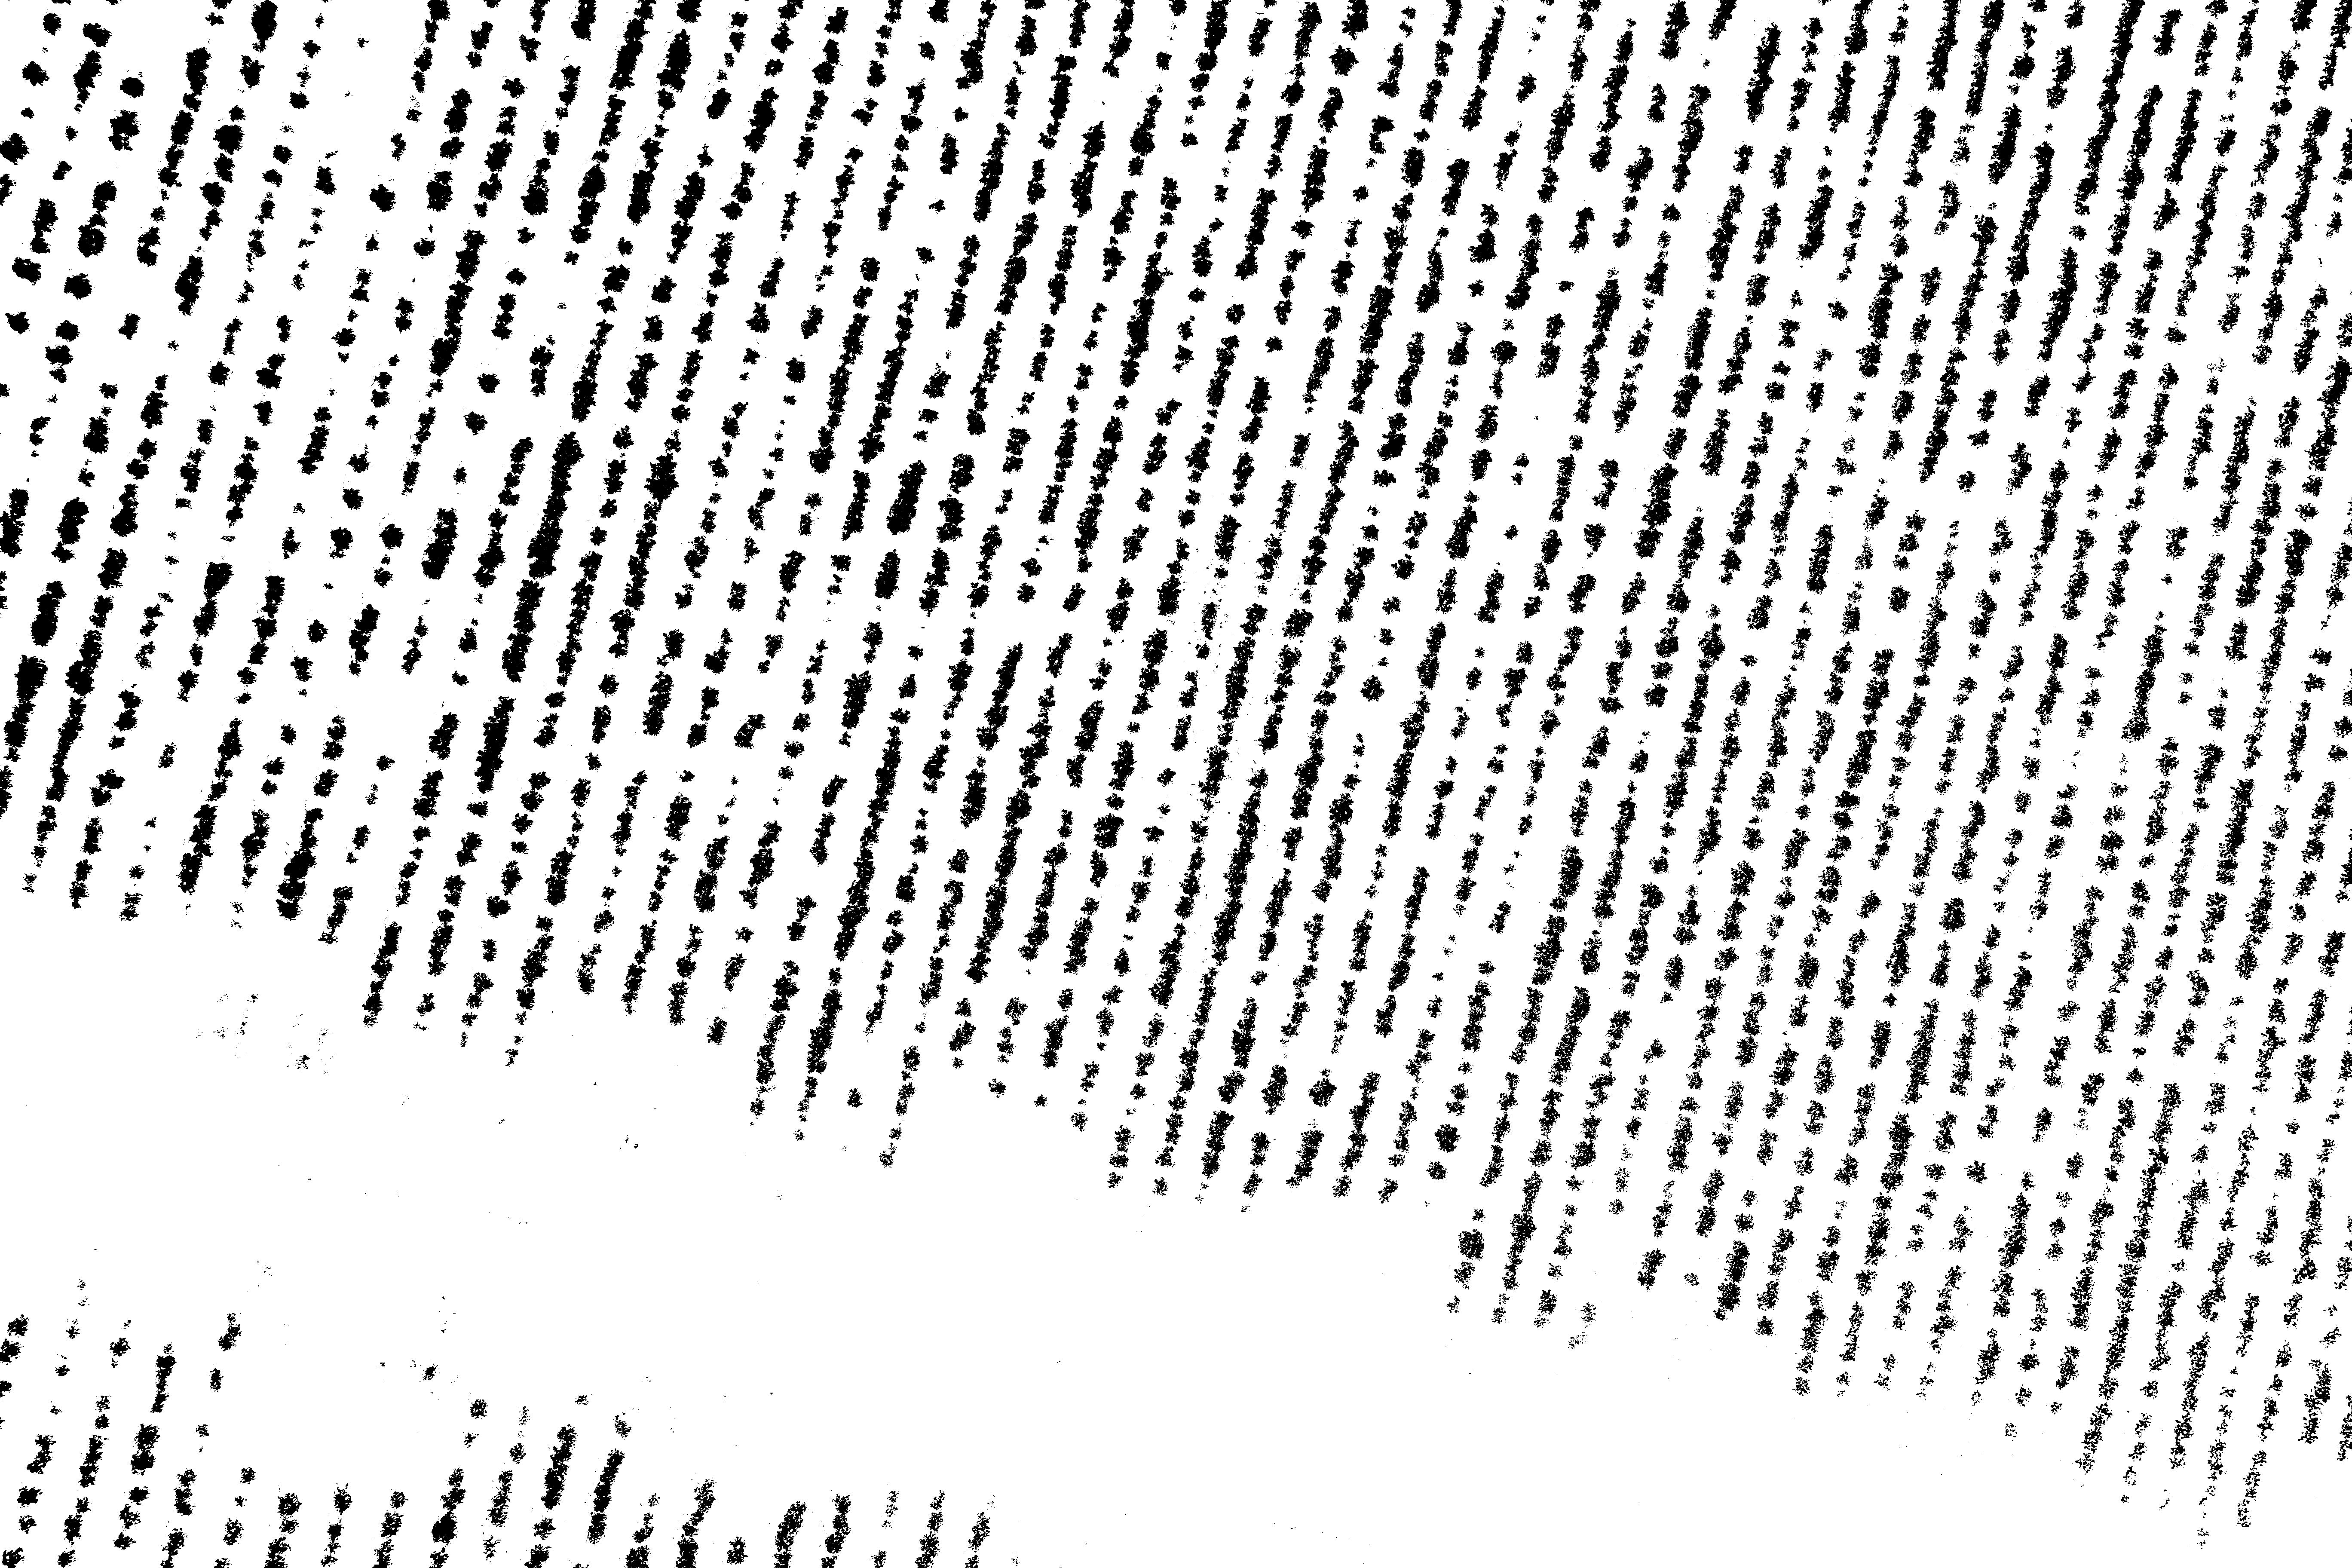Surco: (1788, 0, 2153, 1395), (2001, 4, 2352, 1446), (1831, 4, 2188, 1397), (1969, 0, 2319, 1401), (1878, 0, 2231, 1384), (1562, 4, 1919, 1369), (1917, 4, 2263, 1397), (1749, 0, 2095, 1337), (1489, 0, 1833, 1328), (1706, 2, 2050, 1328), (1442, 19, 1790, 1326), (1530, 2, 1863, 1326), (1633, 2, 1966, 1298), (1227, 0, 1562, 1223), (1087, 2, 1425, 1204), (1277, 0, 1603, 1208), (1320, 15, 1644, 1210), (1195, 4, 1515, 1208), (1148, 2, 1470, 1193), (1375, 0, 1691, 1208), (1425, 0, 1736, 1204), (875, 2, 1188, 1167), (2050, 178, 2342, 1418), (787, 4, 1094, 1145), (739, 0, 1049, 1122), (1025, 0, 1326, 1113), (1070, 13, 1369, 1130), (845, 9, 1139, 1113), (986, 6, 1283, 1098), (2076, 316, 2351, 1476), (458, 4, 752, 1047), (357, 2, 655, 1025), (952, 0, 1238, 1070), (666, 0, 954, 1032), (572, 0, 855, 999), (318, 2, 600, 946), (226, 0, 503, 935), (174, 0, 456, 898), (279, 0, 552, 920), (9, 2, 282, 907), (69, 0, 340, 892), (110, 30, 372, 933), (2117, 496, 2349, 1507), (4, 4, 230, 812), (2172, 692, 2347, 1469), (2188, 847, 2347, 1543), (2235, 1042, 2349, 1532), (4, 4, 125, 398), (148, 1298, 254, 1568), (0, 1283, 92, 1565), (49, 1307, 144, 1565), (92, 1335, 187, 1558), (2297, 1221, 2349, 1451), (430, 1388, 492, 1567), (524, 1395, 589, 1565), (481, 1403, 539, 1558), (204, 1455, 266, 1567), (649, 1468, 718, 1568), (587, 1410, 634, 1545), (0, 1285, 37, 1431), (357, 1489, 410, 1568), (260, 1485, 309, 1567), (309, 1485, 359, 1565), (866, 1483, 905, 1562), (913, 1485, 952, 1565), (952, 1502, 1001, 1560), (628, 1476, 658, 1559), (821, 1485, 853, 1558), (772, 1504, 806, 1562), (729, 1530, 754, 1565)
